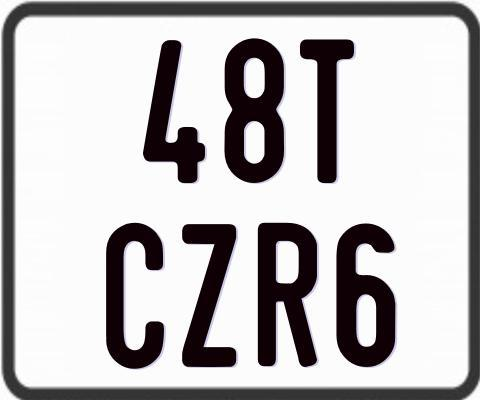4: (143, 40, 211, 183)
6: (336, 224, 396, 370)
8: (224, 36, 285, 182)
C: (103, 221, 166, 372)
R: (256, 220, 321, 366)
T: (297, 39, 357, 183)
Z: (179, 224, 239, 371)
